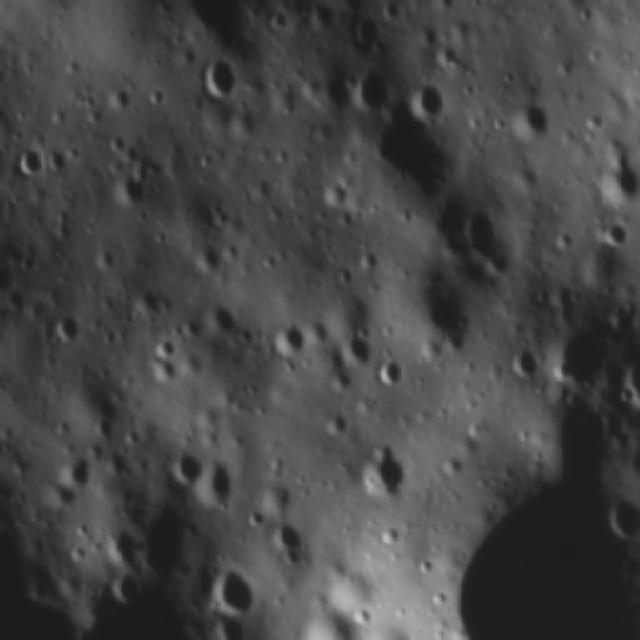crater: (172, 0, 259, 71), (460, 204, 518, 285), (355, 442, 414, 504), (552, 324, 606, 388), (204, 564, 262, 622), (196, 457, 239, 512), (349, 64, 391, 114), (510, 101, 553, 147), (605, 487, 637, 545), (408, 77, 446, 123), (201, 58, 239, 100), (270, 319, 308, 358), (113, 169, 152, 206), (169, 447, 205, 487), (272, 521, 312, 557), (506, 340, 540, 382), (339, 330, 375, 368), (58, 456, 93, 495), (50, 308, 85, 346), (191, 242, 226, 278), (205, 300, 238, 337), (108, 570, 142, 604), (15, 144, 47, 179), (372, 358, 405, 388), (307, 1, 338, 32), (353, 16, 381, 50), (212, 612, 246, 640), (106, 85, 134, 117), (92, 416, 120, 447), (148, 356, 178, 384), (92, 246, 119, 276), (321, 182, 347, 212), (266, 4, 292, 34), (323, 408, 351, 434), (152, 336, 180, 361), (358, 245, 379, 278), (602, 217, 626, 245), (300, 73, 322, 102), (0, 261, 18, 295), (577, 3, 594, 25), (148, 86, 164, 109)
